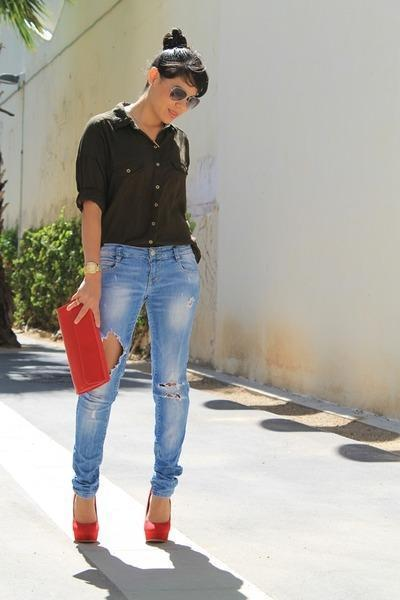bag: (60, 300, 110, 394)
pants: (72, 243, 201, 497)
shirt: (76, 101, 199, 251)
shoe: (73, 518, 169, 546)
sunglass: (169, 77, 199, 107)
